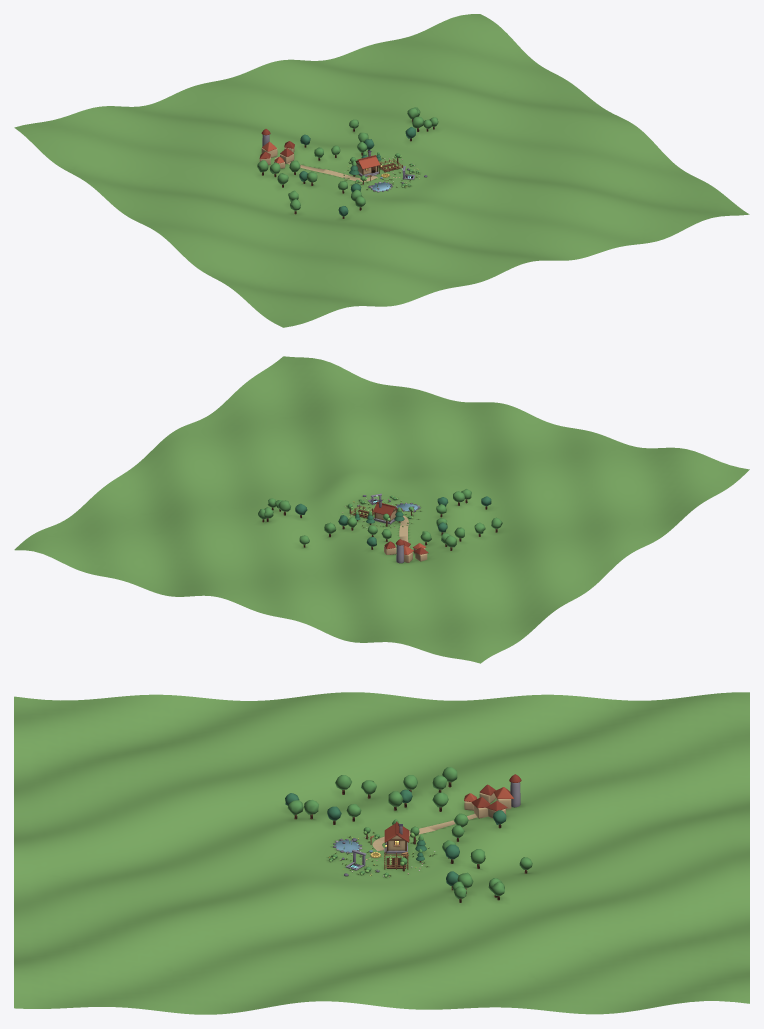
File: home.glb
The picture shows the model from 3 angles, top to bottom: view 1: azimuth 30°, elevation 25°; view 2: azimuth 150°, elevation 25°; view 3: azimuth 270°, elevation 25°; orthographic projection. The views are drawn at different scales.
Visible parts, largest first — view 1: home_static; view 2: home_static; view 3: home_static.
Part boxes in pixels (x1,y1,x2,y2): home_static: (14,14,749,327); home_static: (14,356,749,663); home_static: (14,692,749,1014).
Bounding box in the file's own units: 64 × 4.14 × 64.
